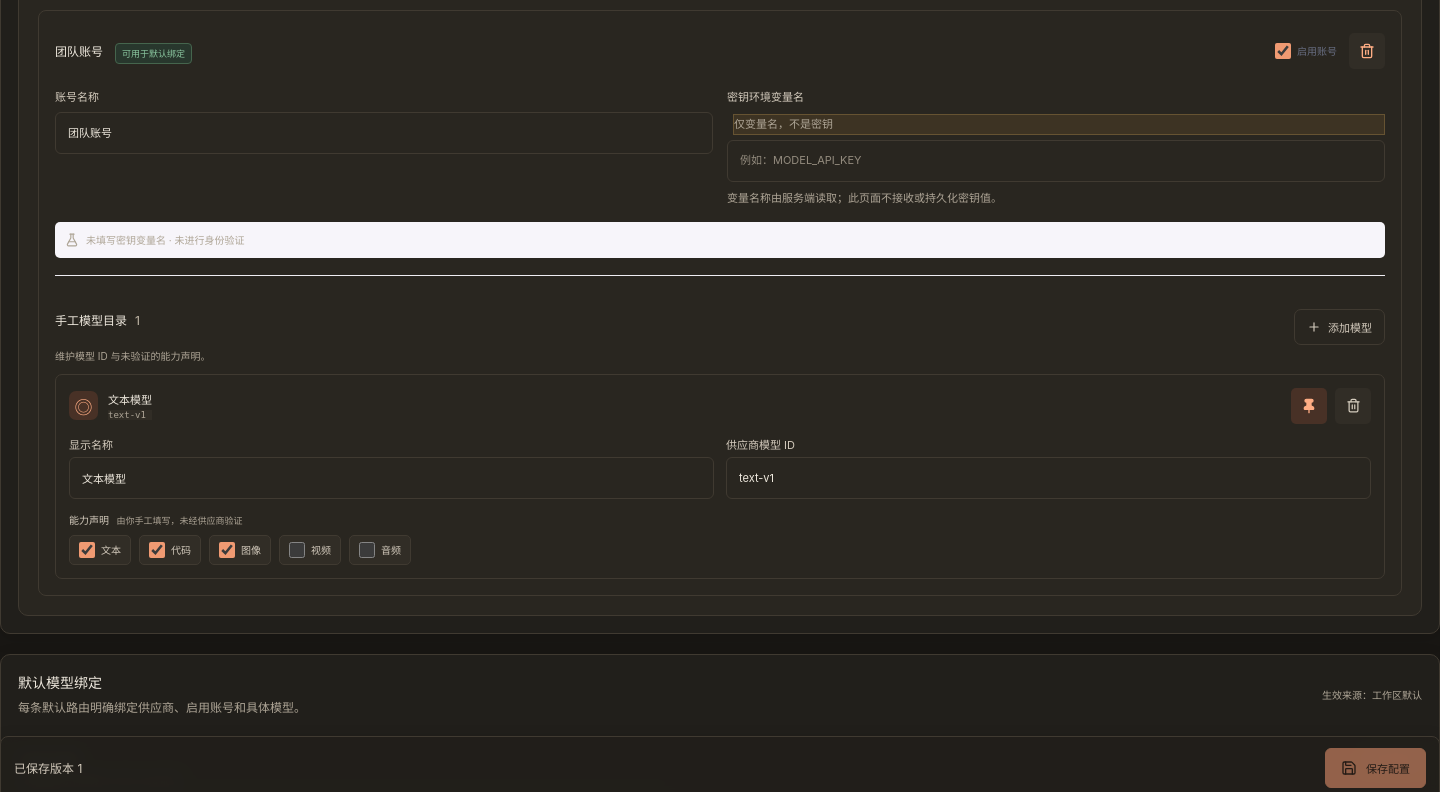
Test case: 模型配置 v2 › 删除引用了图像默认绑定的模型时保留有效的 mock-svg 路由
(page scrolled)
Click the button named "删除模型 文本模型". click: (1353, 406)
box: [1335, 388, 1371, 424]
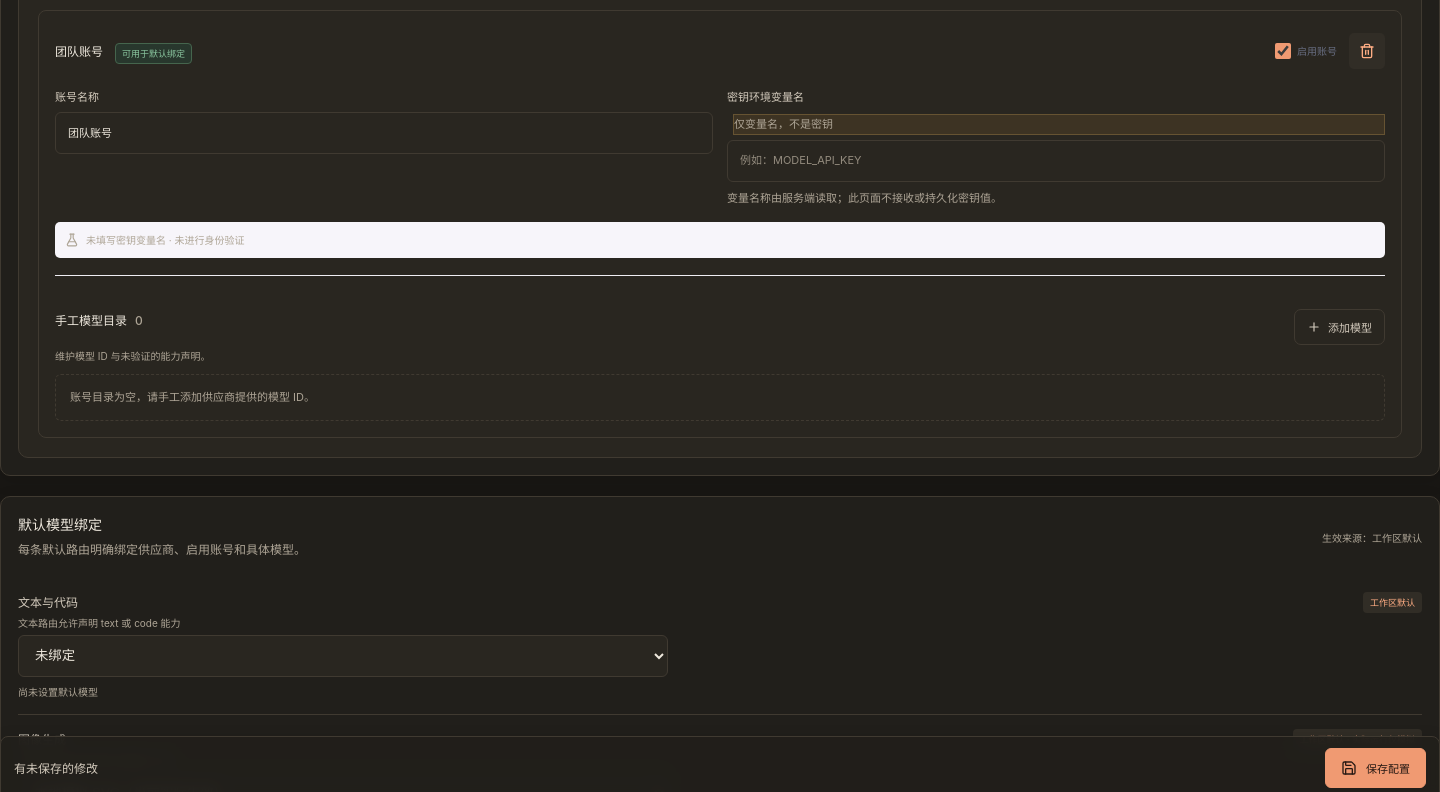
Click the button "保存配置". click: (1376, 768)
box: [1325, 748, 1426, 788]
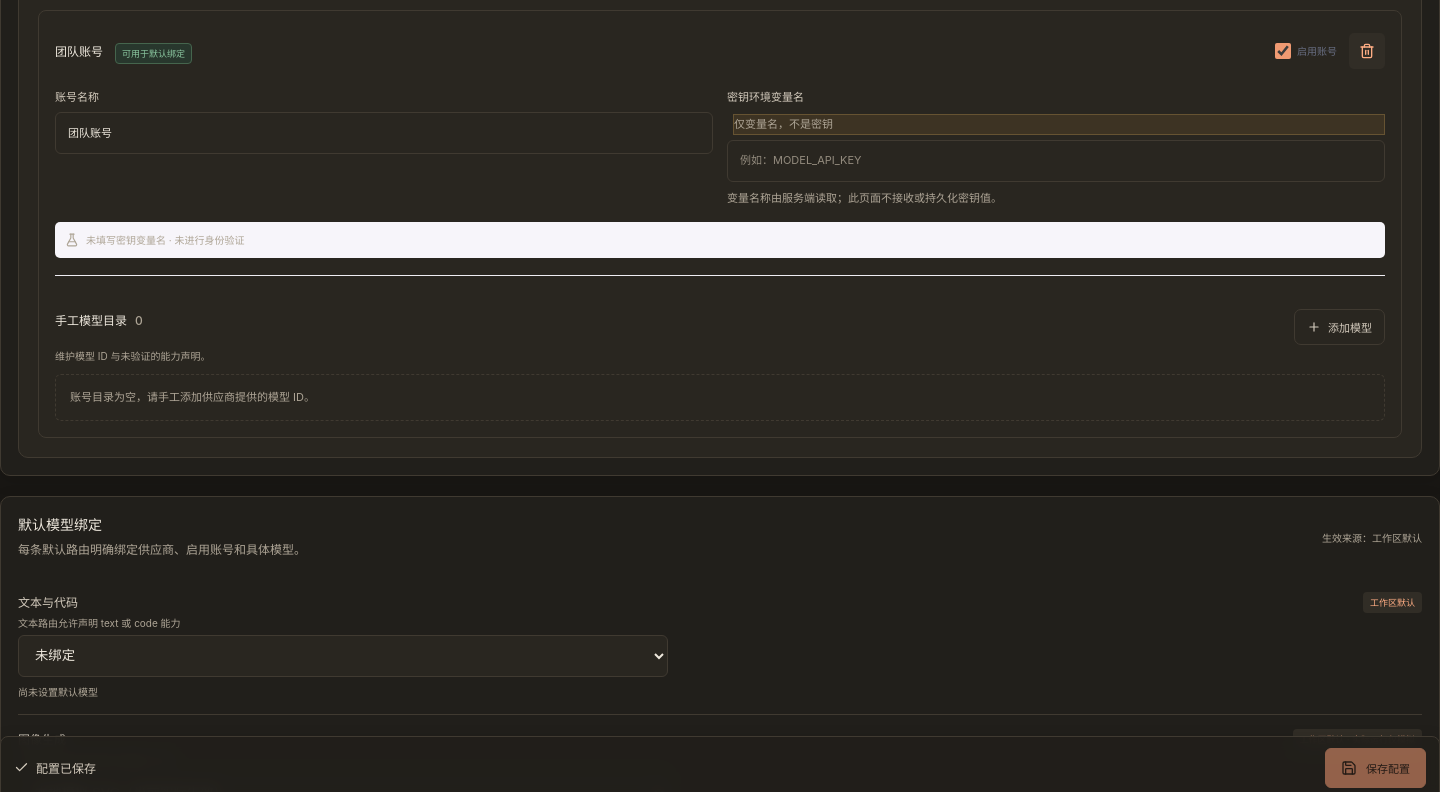
Expected: the text "配置已保存" is shown, [14, 760, 96, 776]
